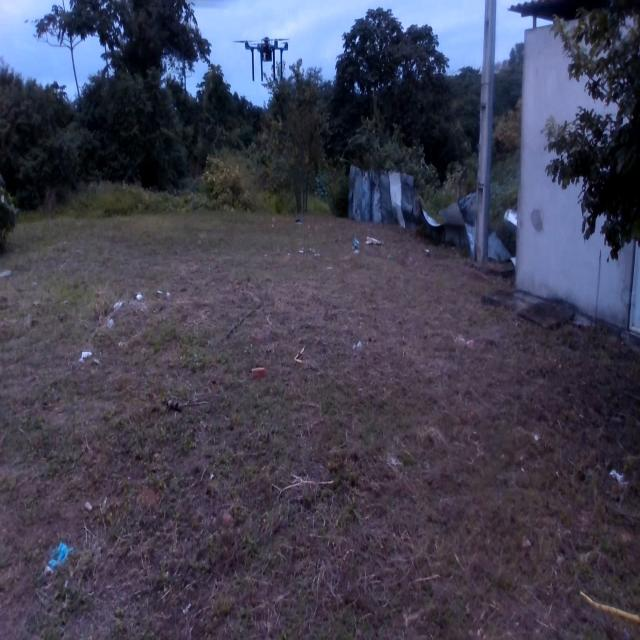-uav-: (236, 26, 298, 94)
